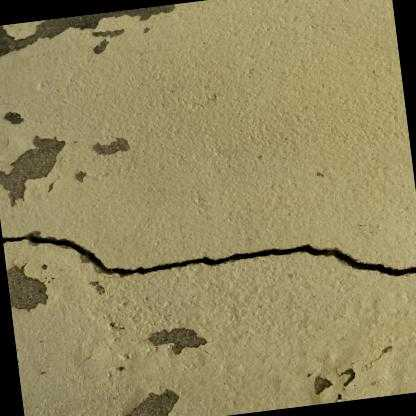crack: (2, 234, 416, 276)
